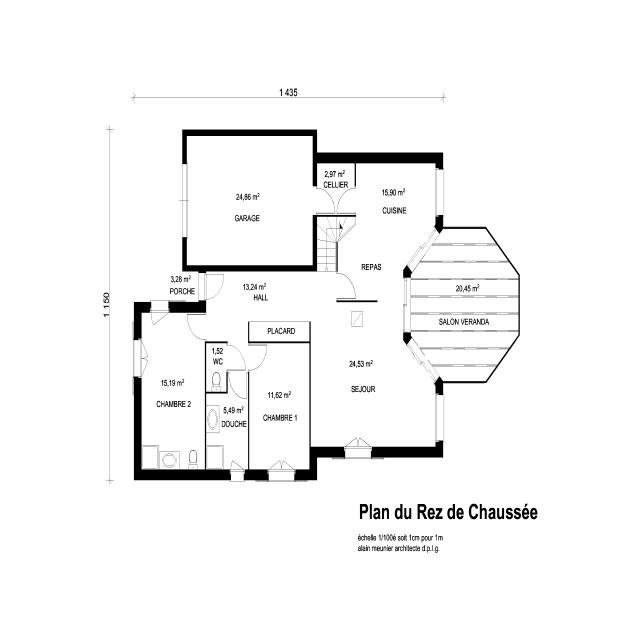door: (200, 270, 227, 301), (334, 270, 359, 300), (247, 340, 270, 371), (314, 186, 336, 216), (336, 187, 357, 216), (226, 343, 247, 372), (186, 312, 207, 340), (228, 371, 248, 400), (228, 461, 246, 479)
window: (177, 161, 191, 241), (402, 274, 412, 340), (434, 167, 446, 220), (131, 334, 143, 382), (434, 392, 444, 444)
zone: (183, 133, 317, 268), (310, 301, 416, 449), (316, 160, 437, 273), (406, 245, 518, 347), (140, 309, 205, 475), (248, 340, 310, 469), (203, 271, 309, 342), (206, 391, 249, 448), (206, 339, 227, 393)
